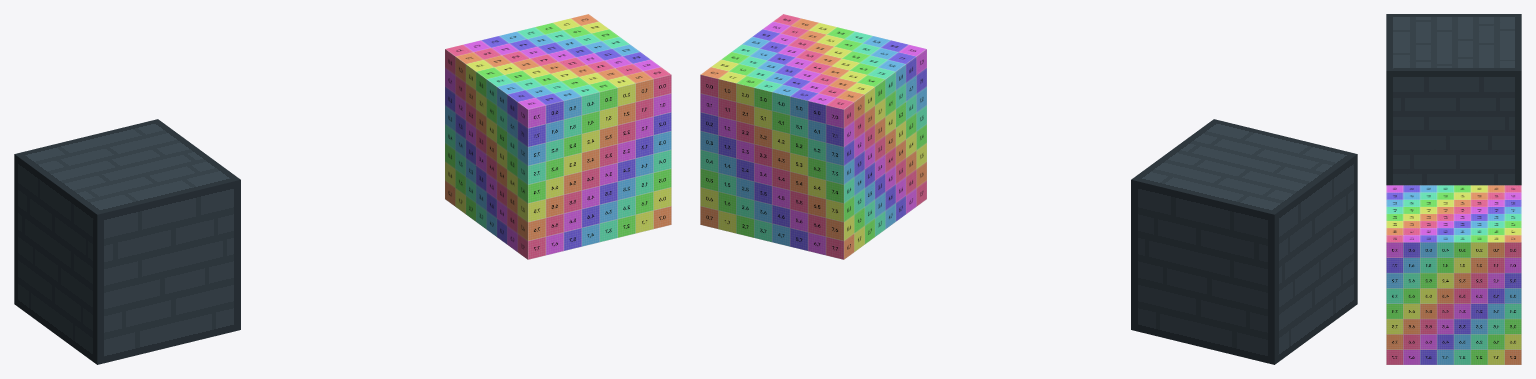
The model's file is doubleBox.obj.
3 views of the same model, side by side, from view 1: azimuth 30°, elevation 25°; view 2: azimuth 150°, elevation 25°; view 3: azimuth 270°, elevation 25° (orthographic). The views are drawn at different scales.
Visible parts, largest first — view 1: Cube, Cube2; view 2: Cube, Cube2; view 3: Cube2, Cube.
Boxes of the visible parts, box(x1,y1,x2,y2) form: Cube: box(14, 119, 240, 364); Cube2: box(445, 14, 671, 259); Cube: box(1131, 119, 1357, 364); Cube2: box(700, 14, 926, 259); Cube2: box(1386, 185, 1521, 364); Cube: box(1386, 14, 1521, 185).
Bounding box in the file's own units: 8 × 2 × 2.
